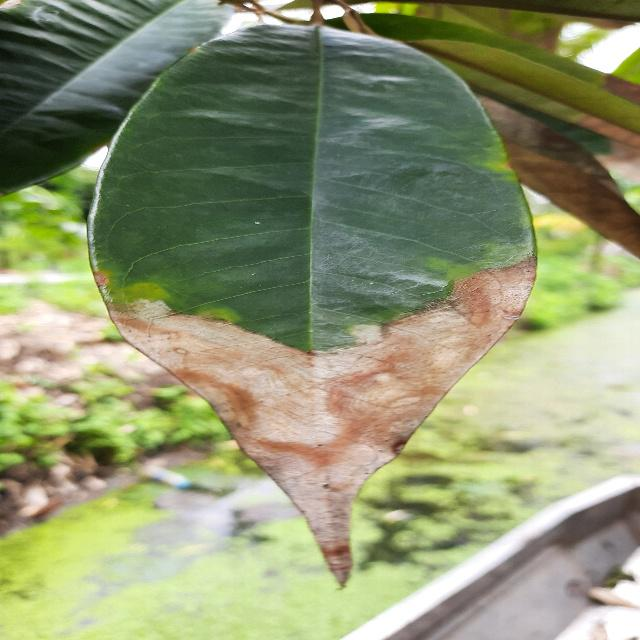Leaf Blight: (79, 9, 551, 593)
